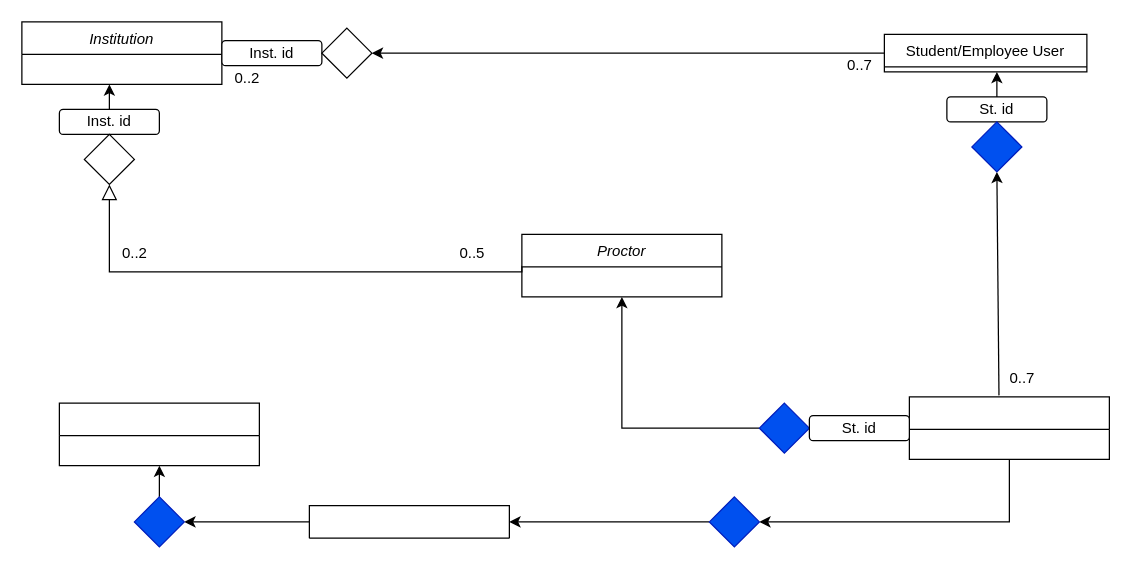
The diagram is 1131 pixels wide and 569 high, and some of its shapes have lost their labels. The shapes that lost their labels are listed below. From the top down, each one's box as (x1, y1, x2, y2) in pixels, then its label:
(58, 402, 259, 466): Machine Learning Model
(908, 396, 1109, 459): Complains
(308, 504, 509, 538): Complain Validation
